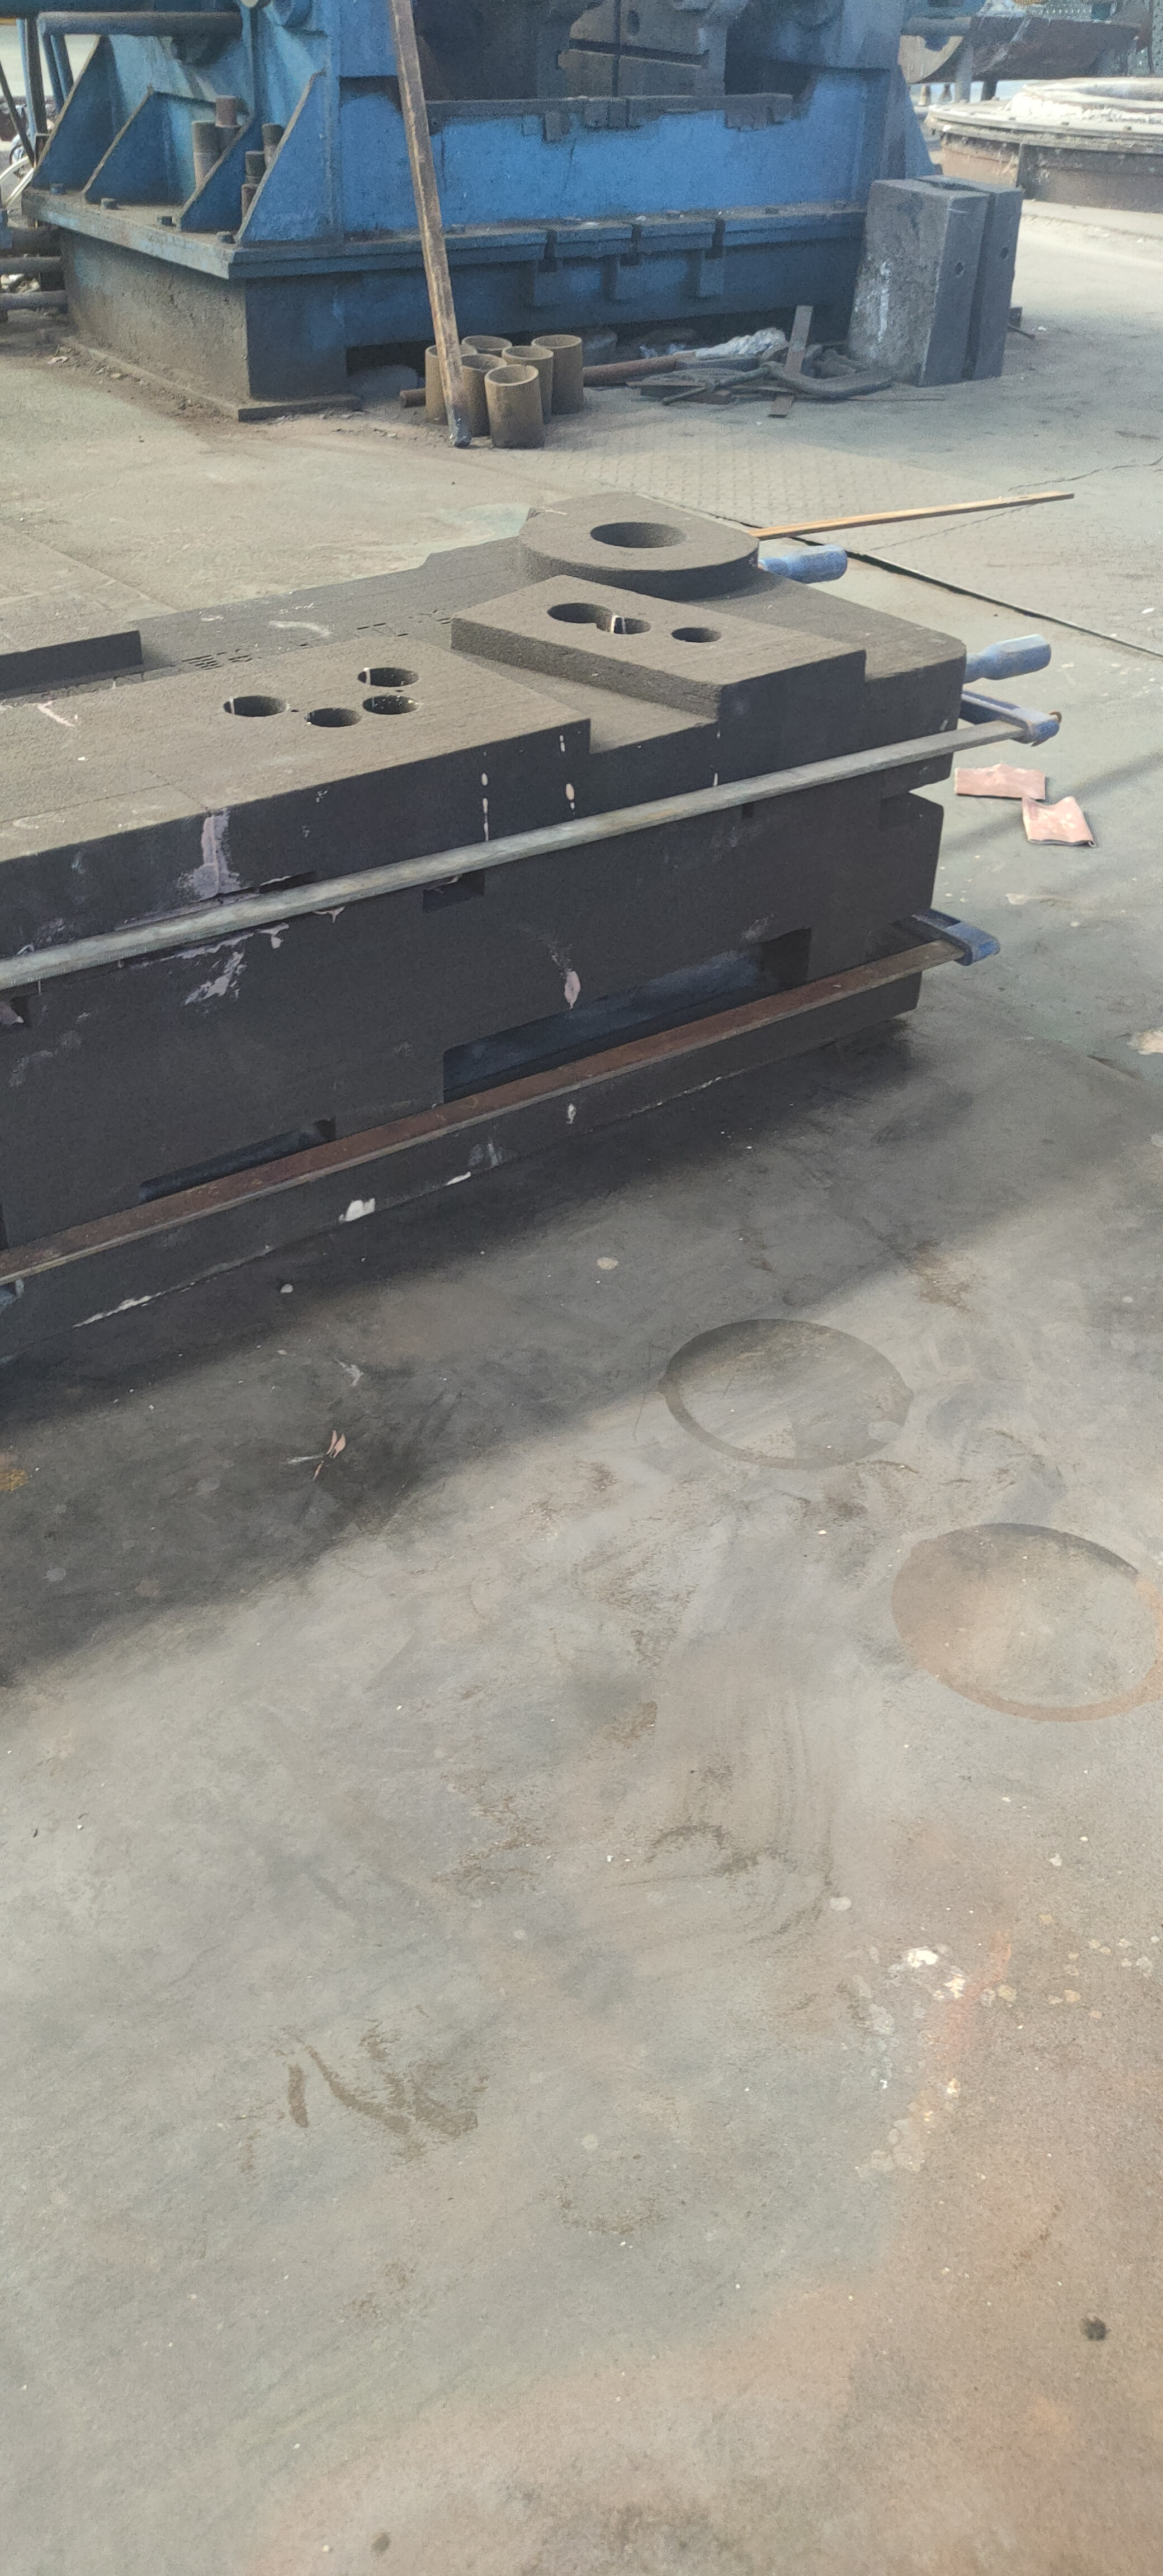pouring hole: (588, 522, 688, 549), (483, 365, 539, 384), (462, 332, 511, 352), (458, 352, 506, 371), (532, 333, 583, 350), (427, 342, 476, 358), (506, 347, 554, 360)
